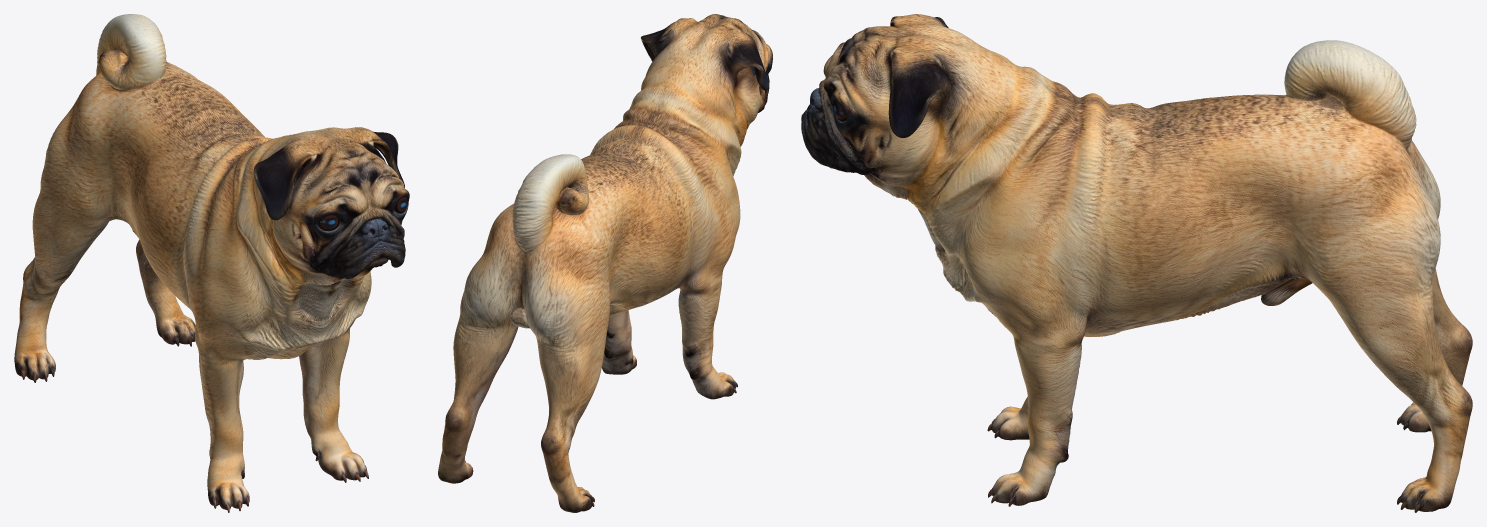
Rendered from Pug Dog Low Poly.fbx.
3 views of the same model, side by side, from view 1: azimuth 30°, elevation 25°; view 2: azimuth 150°, elevation 25°; view 3: azimuth 270°, elevation 25° (orthographic). The views are drawn at different scales.
Visible parts, largest first — view 1: Pug Dog Low Poly Mesh Part 2, Pug Dog Low Poly Mesh Part 1, Pug Dog Low Poly Mesh Part 4, Pug Dog Low Poly Mesh Part 3; view 2: Pug Dog Low Poly Mesh Part 3, Pug Dog Low Poly Mesh Part 4, Pug Dog Low Poly Mesh Part 2, Pug Dog Low Poly Mesh Part 1; view 3: Pug Dog Low Poly Mesh Part 4, Pug Dog Low Poly Mesh Part 3, Pug Dog Low Poly Mesh Part 2, Pug Dog Low Poly Mesh Part 1.
Boxes of the visible parts, x1=… form: Pug Dog Low Poly Mesh Part 2: x1=91, y1=14, x2=371, y2=512; Pug Dog Low Poly Mesh Part 1: x1=238, y1=127, x2=409, y2=349; Pug Dog Low Poly Mesh Part 4: x1=129, y1=114, x2=350, y2=504; Pug Dog Low Poly Mesh Part 3: x1=14, y1=14, x2=239, y2=382; Pug Dog Low Poly Mesh Part 3: x1=438, y1=154, x2=661, y2=512; Pug Dog Low Poly Mesh Part 4: x1=581, y1=71, x2=733, y2=399; Pug Dog Low Poly Mesh Part 2: x1=536, y1=15, x2=750, y2=396; Pug Dog Low Poly Mesh Part 1: x1=641, y1=14, x2=772, y2=176; Pug Dog Low Poly Mesh Part 4: x1=981, y1=56, x2=1255, y2=505; Pug Dog Low Poly Mesh Part 3: x1=1178, y1=40, x2=1472, y2=512; Pug Dog Low Poly Mesh Part 2: x1=872, y1=16, x2=1385, y2=506; Pug Dog Low Poly Mesh Part 1: x1=801, y1=14, x2=1001, y2=288.
Size of the model in its own units: 0.3785 by 0.7842 by 1.1.
1 material, 1 textured.
